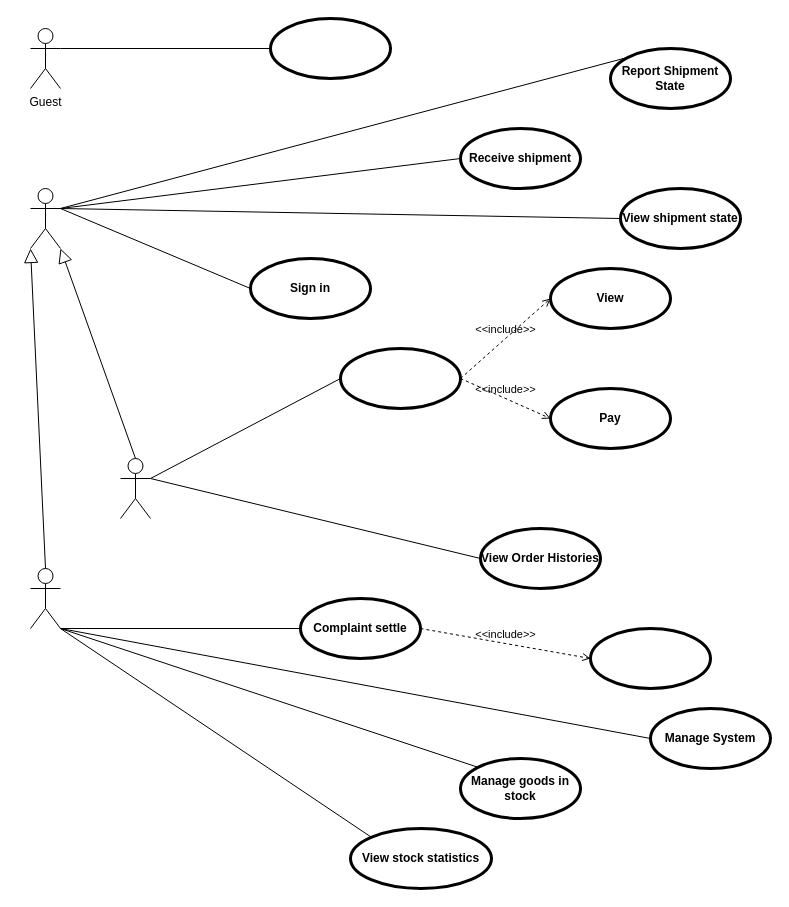
This 789x907 diagram has some shape labels left out. The centre of each missing label's shape, as x and y in pixels:
Admin: (x=45, y=598)
Customer: (x=135, y=488)
Order: (x=400, y=378)
Sign up: (x=330, y=48)
User: (x=45, y=218)
View Complaint: (x=650, y=658)
